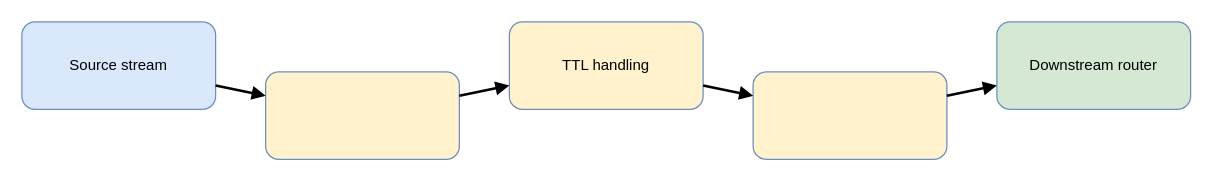
The diagram is 1213 pixels wide and 181 high, and some of its shapes have lost their labels. The centre of each missing label's shape, as x and y in pixels:
FortiGate forwarder: the point at 361,115
Multicast policy: the point at 849,115
